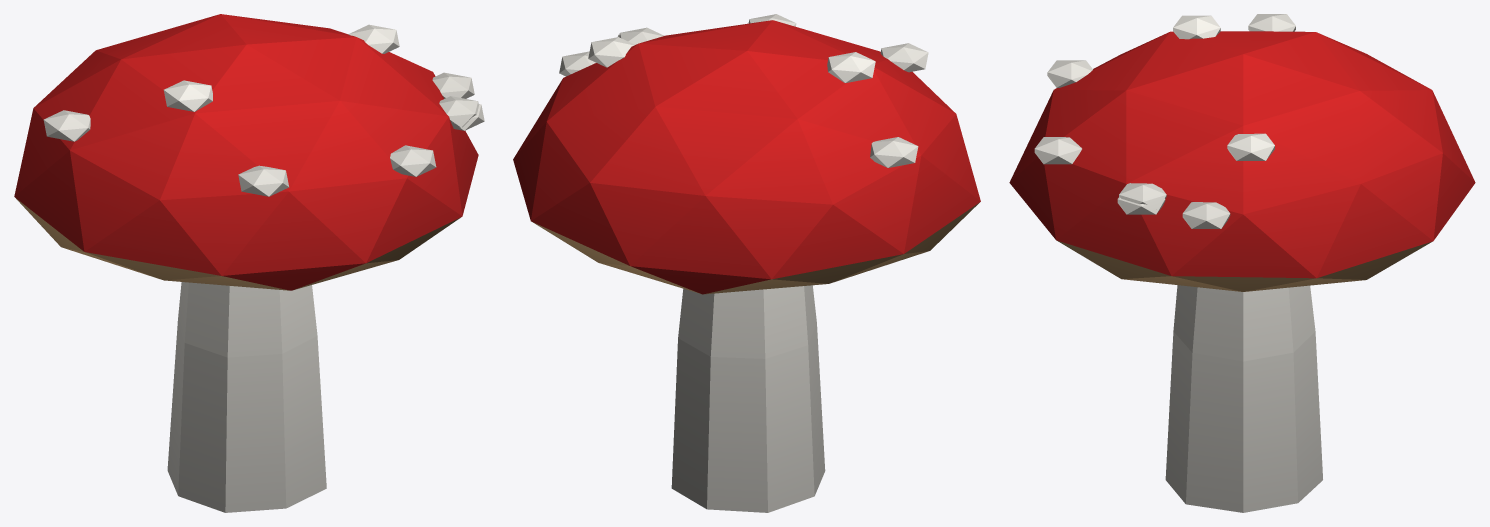
The model's file is mushroom_red_01.fbx.
The picture shows the model from 3 angles, left to right: view 1: azimuth 30°, elevation 25°; view 2: azimuth 150°, elevation 25°; view 3: azimuth 270°, elevation 25°; orthographic projection. The views are drawn at different scales.
Parts seen in each view (by area): view 1: mushroom_red_01_LOD0; view 2: mushroom_red_01_LOD0; view 3: mushroom_red_01_LOD0.
Boxes of the visible parts, <box> form: mushroom_red_01_LOD0: <box>14,14,484,512</box>; mushroom_red_01_LOD0: <box>513,14,980,512</box>; mushroom_red_01_LOD0: <box>1009,14,1475,512</box>.
Size of what is drawn, in the model's own units: 0.3916 by 0.4011 by 0.3979.
1 material, 1 textured.
